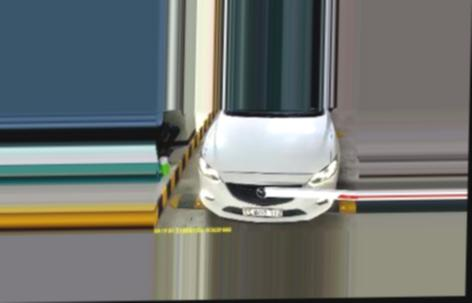License_Plate: (240, 206, 284, 217)
